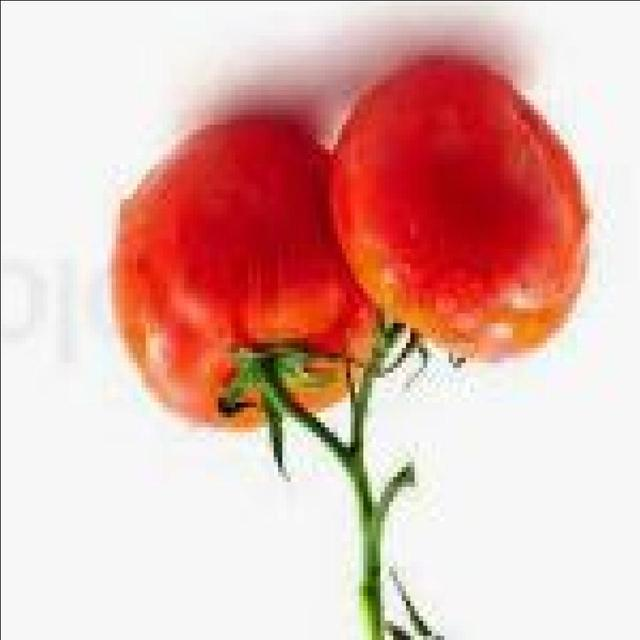Healthy Fruit: (147, 147, 302, 228)
